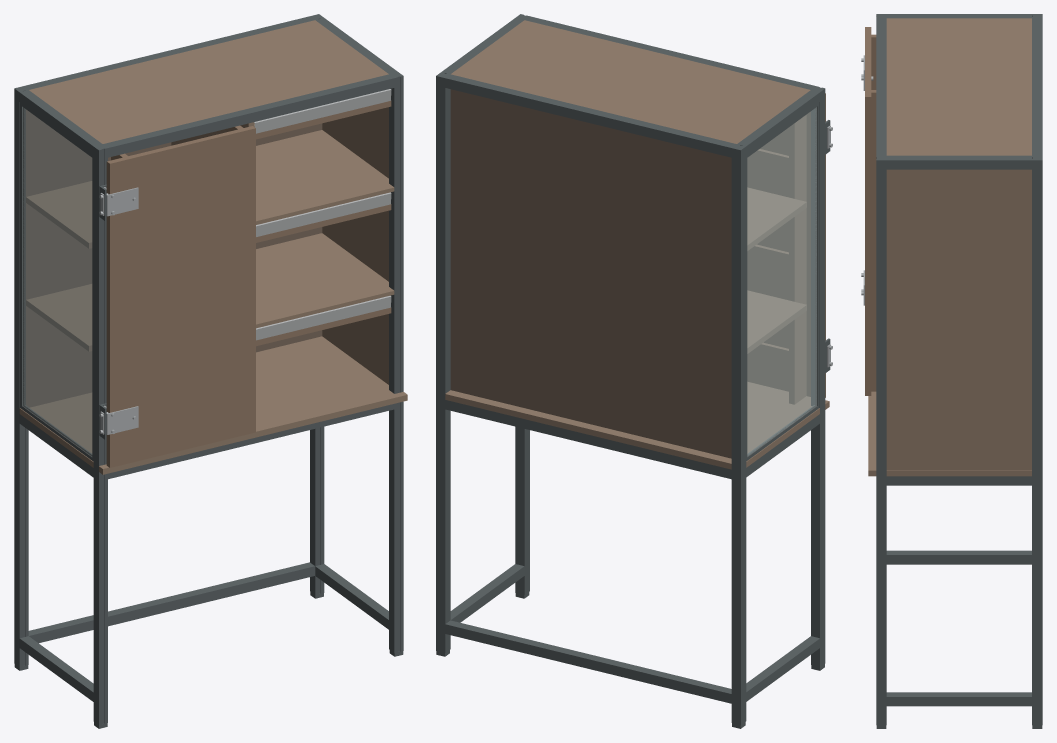
File: cabinet-stowed.glb
3 renders of one model, left to right at view 1: azimuth 30°, elevation 25°; view 2: azimuth 150°, elevation 25°; view 3: azimuth 270°, elevation 25°, orthographic.
Visible parts, largest first — view 1: Door-face-18, Left-glass-6, Top-18, Back-12, Bottom-18, Right-floor-1, Right-floor-2, Post-966-23, Right-panel, Post-4-23, Post-4-470, Beam-top-front (+22 smaller); view 2: Back-12, Left-glass-6, Top-18, Post-4-470, Post-966-470, Post-4-23, Door-face-18, Bottom-18, Door-inner-hinge-18, Beam-top-rear, Beam-lower-rear, Beam-body-rear (+11 smaller); view 3: Right-panel, Top-18, Post-966-23, Post-966-470, Door-face-18, Beam-lower-side-4, Beam-lower-side-966, Beam-top-side-966, Door-inner-meeting-18, Bottom-18, Beam-top-rear, Beam-top-front (+3 smaller).
Part boxes in pixels (<box>): Door-face-18: <box>106,126,255,467</box>; Left-glass-6: <box>22,107,92,455</box>; Top-18: <box>29,20,388,143</box>; Back-12: <box>25,109,322,407</box>; Bottom-18: <box>19,336,407,474</box>; Right-floor-1: <box>256,233,394,328</box>; Right-floor-2: <box>256,130,394,224</box>; Post-966-23: <box>389,72,403,652</box>; Right-panel: <box>322,107,388,384</box>; Post-4-23: <box>93,144,107,725</box>; Post-4-470: <box>14,86,28,667</box>; Beam-top-front: <box>103,74,394,157</box>; Back-12: <box>450,89,731,458</box>; Left-glass-6: <box>747,107,816,456</box>; Top-18: <box>451,20,810,143</box>; Post-4-470: <box>731,144,746,725</box>; Post-966-470: <box>436,72,450,652</box>; Post-4-23: <box>811,86,825,666</box>; Door-face-18: <box>747,93,825,397</box>; Bottom-18: <box>445,382,829,469</box>; Door-inner-hinge-18: <box>789,115,806,404</box>; Beam-top-rear: <box>445,74,736,157</box>; Beam-lower-rear: <box>445,620,731,703</box>; Beam-body-rear: <box>445,400,731,479</box>; Right-panel: <box>886,169,1031,470</box>; Top-18: <box>886,18,1031,155</box>; Post-966-23: <box>876,155,886,725</box>; Post-966-470: <box>1032,155,1042,725</box>; Door-face-18: <box>865,27,871,395</box>; Beam-lower-side-4: <box>886,550,1031,564</box>; Beam-lower-side-966: <box>886,692,1031,706</box>; Beam-top-side-966: <box>886,155,1031,169</box>; Door-inner-meeting-18: <box>871,90,876,391</box>; Bottom-18: <box>868,391,1031,476</box>; Beam-top-rear: <box>1032,18,1042,155</box>; Beam-top-front: <box>876,18,886,155</box>.
Size of the model in its own units: 1 by 1.8 by 0.5195.
